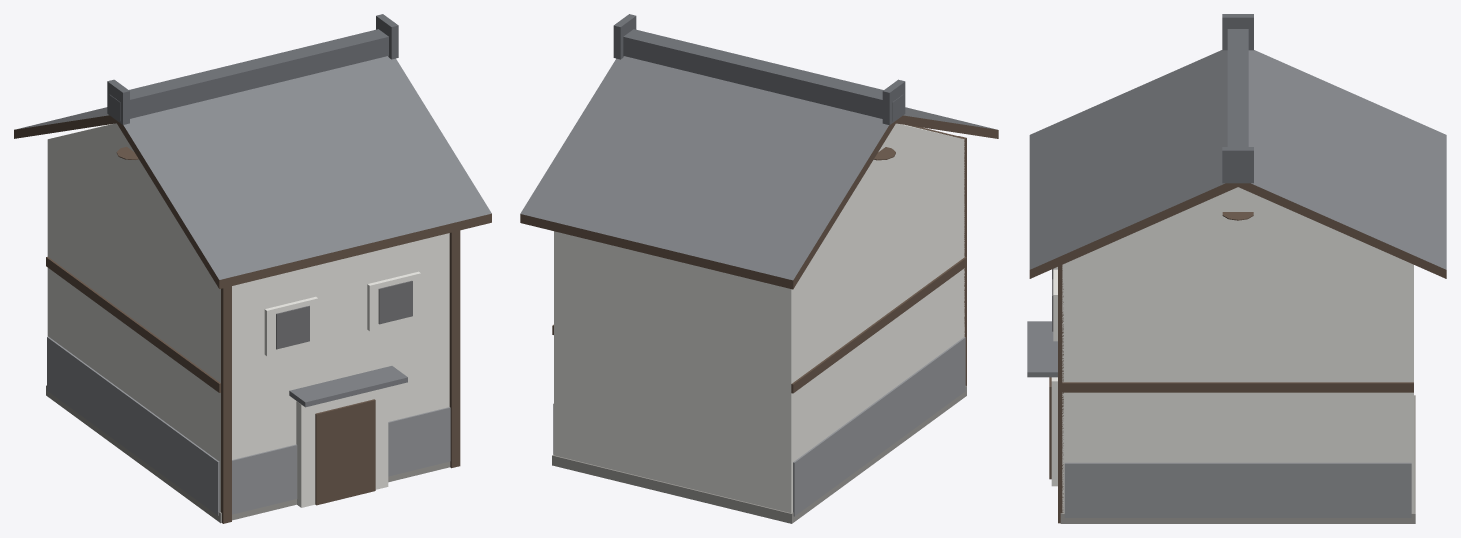
File: HK_Kura.glb
3 views of the same model, side by side, from view 1: azimuth 30°, elevation 25°; view 2: azimuth 150°, elevation 25°; view 3: azimuth 270°, elevation 25° (orthographic).
Parts seen in each view (by area): view 1: HK_Kura; view 2: HK_Kura; view 3: HK_Kura.
Part boxes in pixels (box(x1,y1,x2,y2)): HK_Kura: box(14, 14, 491, 523); HK_Kura: box(520, 14, 998, 523); HK_Kura: box(1027, 14, 1446, 523).
Size of the model in its own units: 7 by 9.11 by 9.05.
